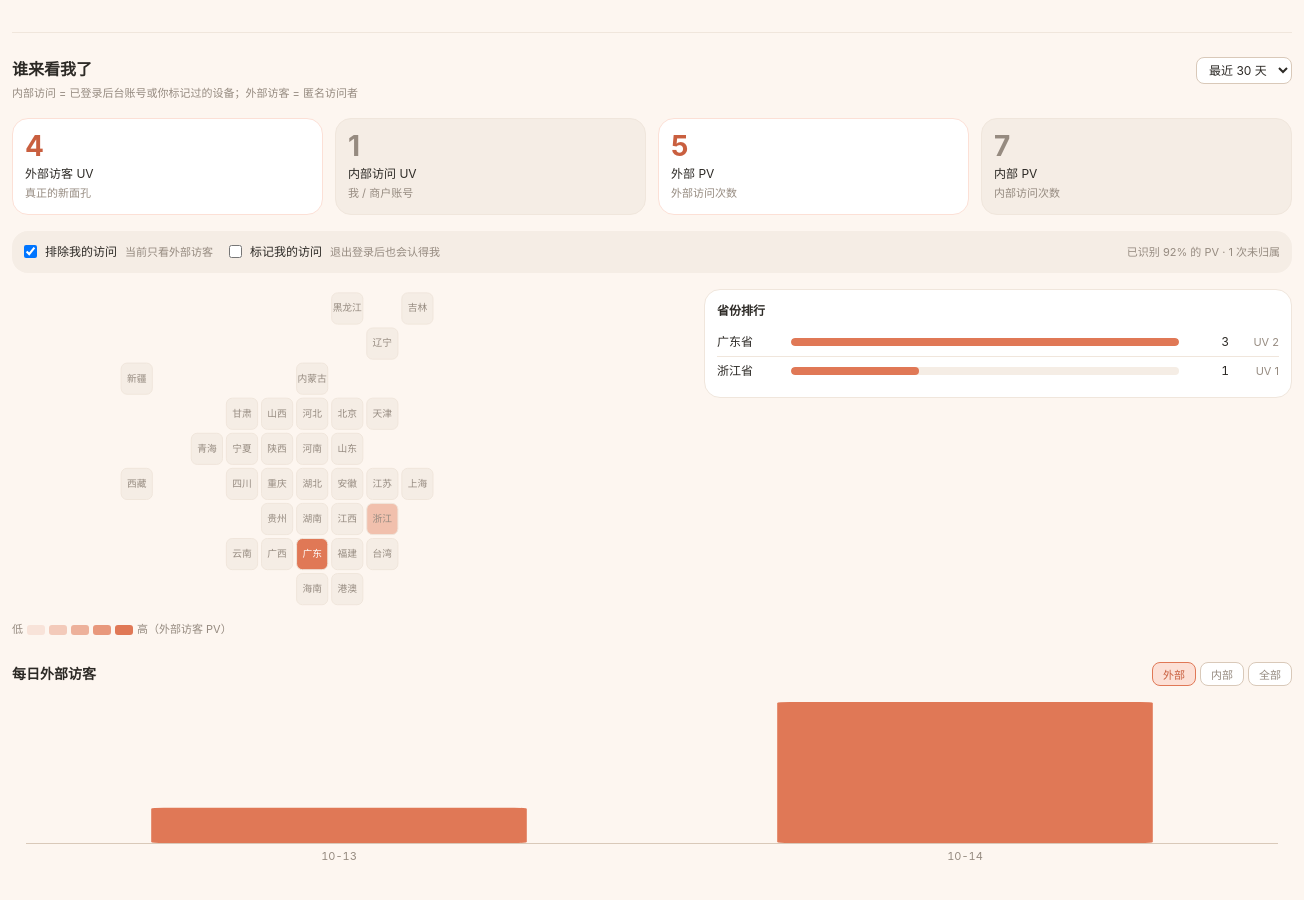
Test: RegionStatsPanel › 点击省份下钻到城市，再点「回到全国」还原
Expected: the text "外部访客 UV" is shown, [25, 166, 94, 181]
Click the text "广东省" at (735, 341), box [717, 334, 753, 349]
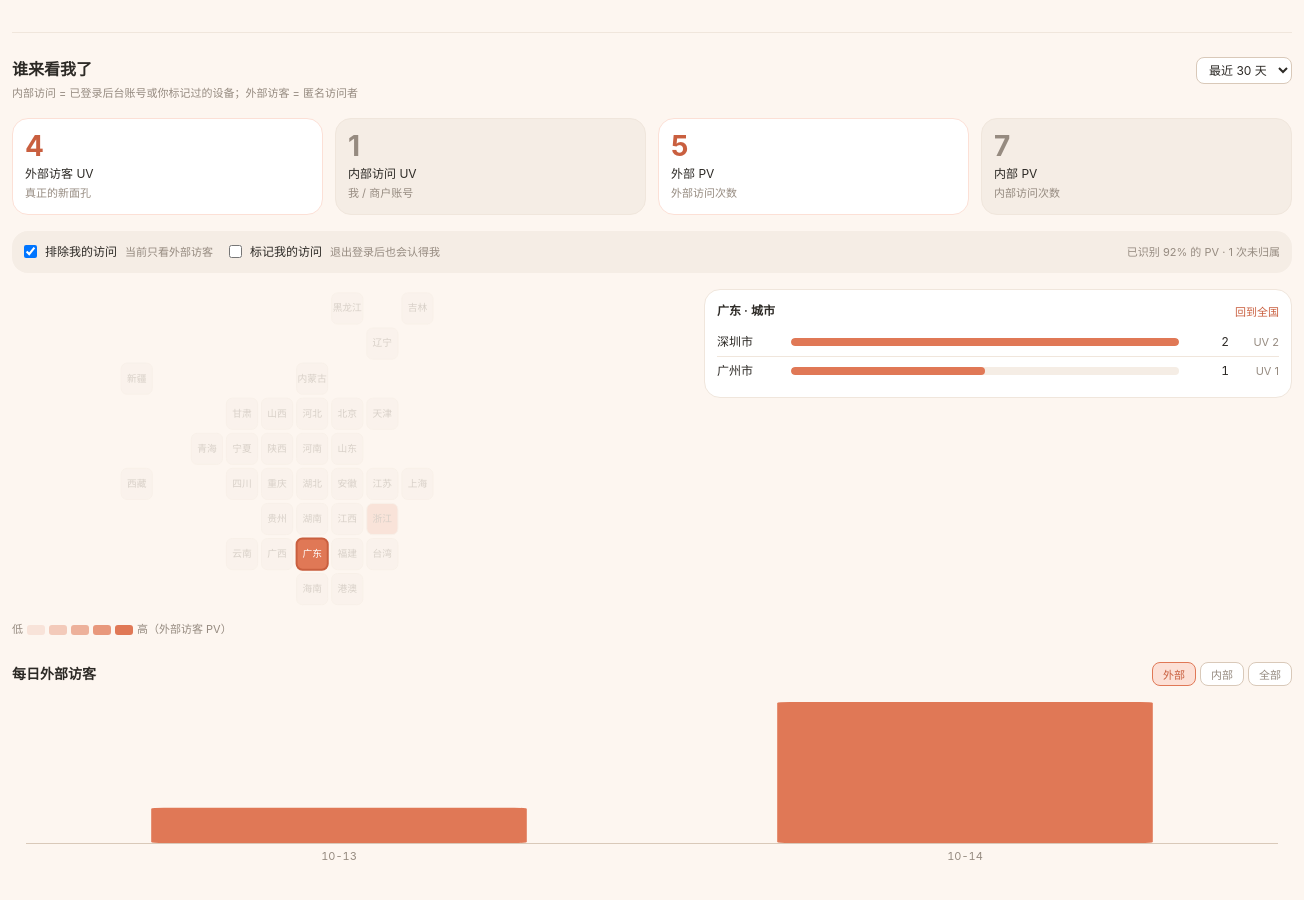
Expected: the text "广东 · 城市" is shown, [717, 302, 775, 320]
Expected: the text "深圳市" is shown, [717, 334, 753, 349]
Expected: the text "广州市" is shown, [717, 363, 753, 378]
Click the button "回到全国" at (1257, 311), box [1235, 303, 1279, 319]
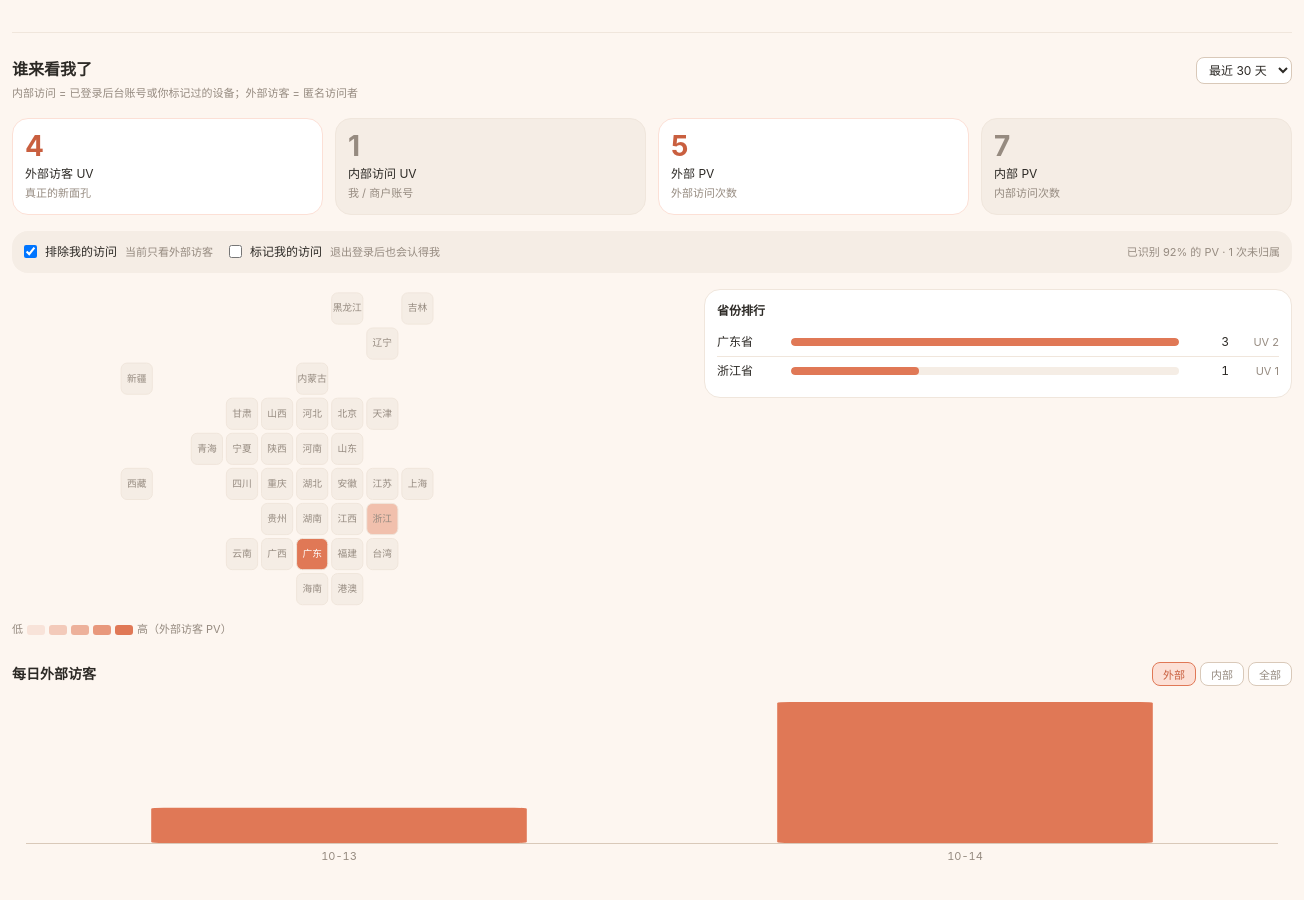
Expected: the text "省份排行" is shown, [717, 302, 765, 320]
Expected: the text "浙江省" is shown, [717, 363, 753, 378]
